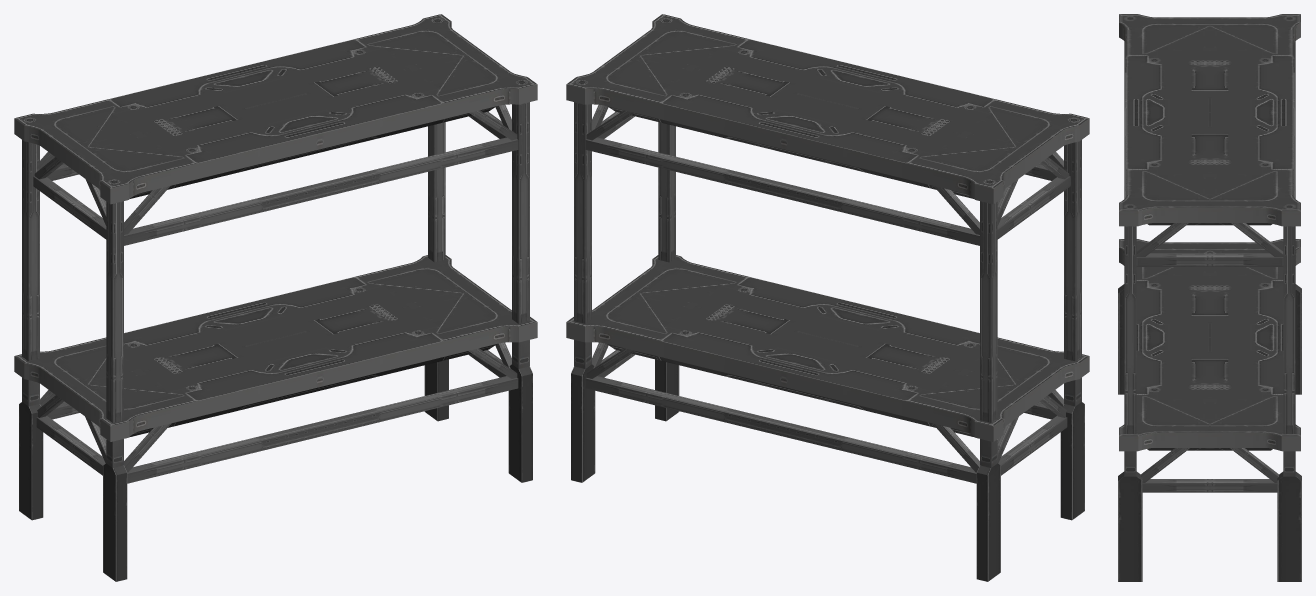
Rendered from Prop_Shelves_ThinShort.glb.
3 renders of one model, left to right at view 1: azimuth 30°, elevation 25°; view 2: azimuth 150°, elevation 25°; view 3: azimuth 270°, elevation 25°, orthographic. The views are drawn at different scales.
Visible parts, largest first — view 1: Prop_Shelves_ThinShort; view 2: Prop_Shelves_ThinShort; view 3: Prop_Shelves_ThinShort.
Boxes of the visible parts, x1=… form: Prop_Shelves_ThinShort: x1=14, y1=14, x2=537, y2=581; Prop_Shelves_ThinShort: x1=566, y1=14, x2=1089, y2=581; Prop_Shelves_ThinShort: x1=1118, y1=14, x2=1301, y2=581.
Size of the model in its own units: 1.37 by 1.21 by 0.5407.
Materials: 1 (1 with a texture image).
